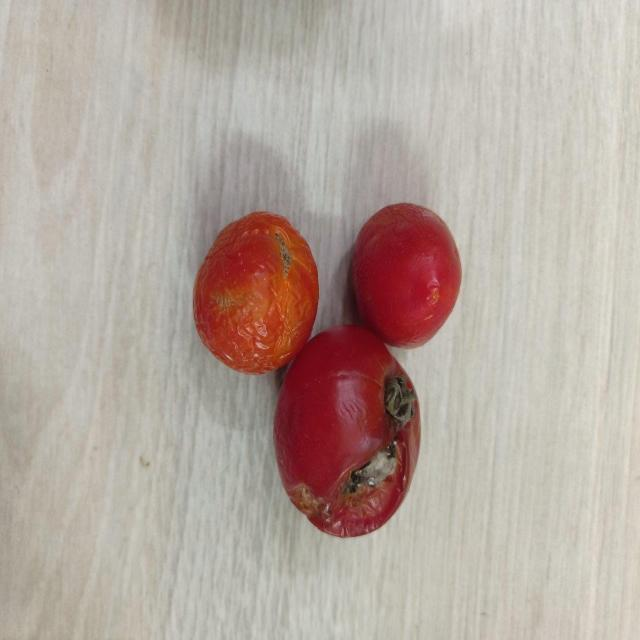Rotten: (275, 322, 423, 538)
